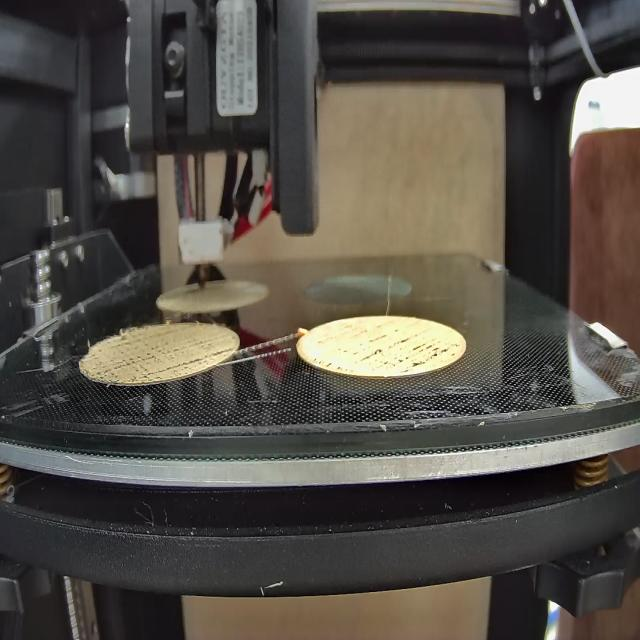under_extrusion: (96, 330, 232, 376), (312, 334, 462, 370)
